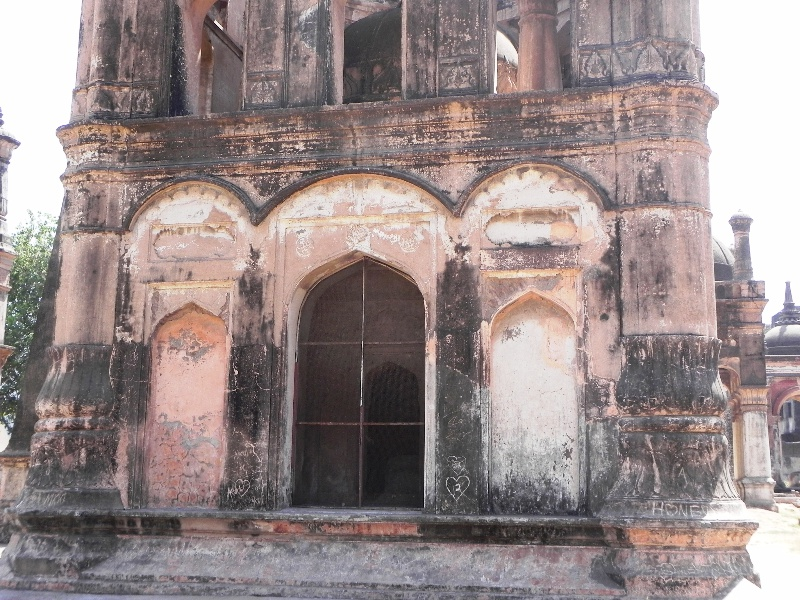Spalling: (477, 273, 527, 318)
